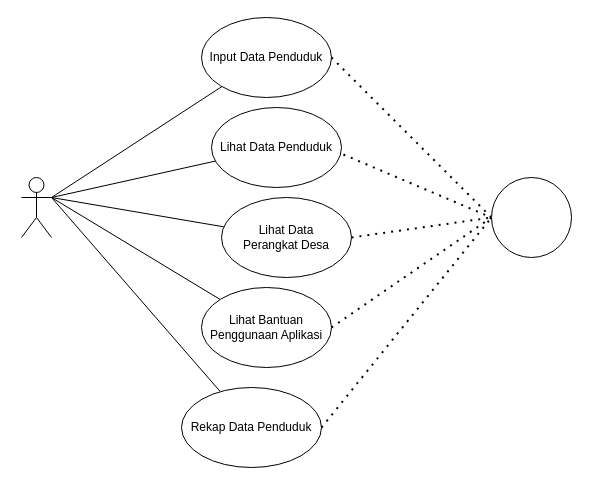
Image size: 589x485. Some labels were removed from this diagram. Here are the shapes that lost their labels. From the top down, the centre of each, then its label:
the point at 36,207: ADMIN
the point at 531,217: Login
